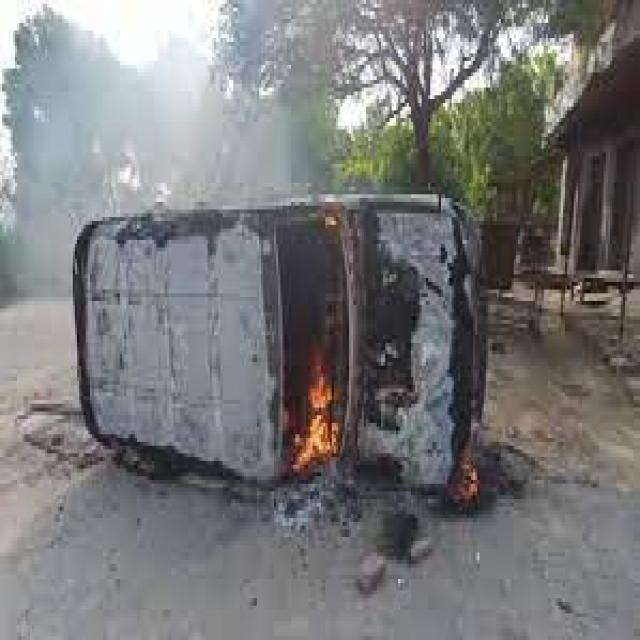fire: (285, 374, 349, 476)
smoke: (9, 15, 306, 282)
